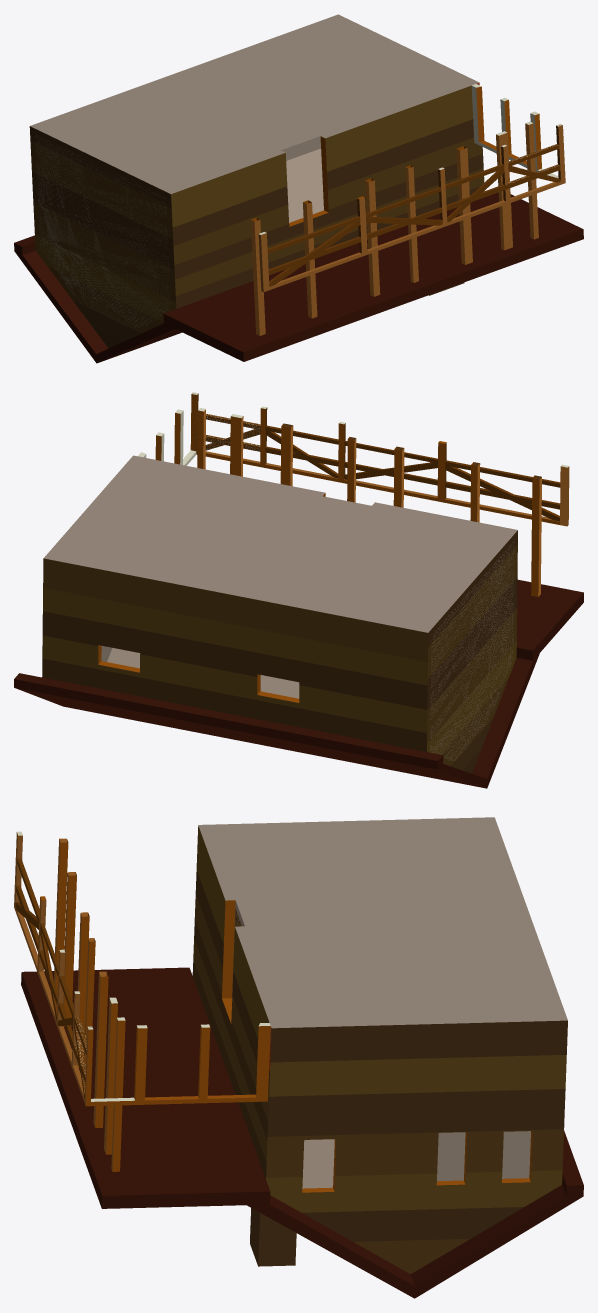
File: wood house - painted.dae
3 renders of one model, top to bottom at view 1: azimuth 30°, elevation 25°; view 2: azimuth 150°, elevation 25°; view 3: azimuth 270°, elevation 25°, orthographic. The views are drawn at different scales.
Parts seen in each view (by area): view 1: SketchUp (×33); view 2: SketchUp (×24); view 3: SketchUp (×29).
Boxes of the visible parts, <box> form: SketchUp (×33): <box>14,14,583,363</box>; SketchUp (×24): <box>14,393,583,788</box>; SketchUp (×29): <box>14,817,583,1298</box>.
Bounding box in the file's own units: 10618 × 9605 × 5264.
